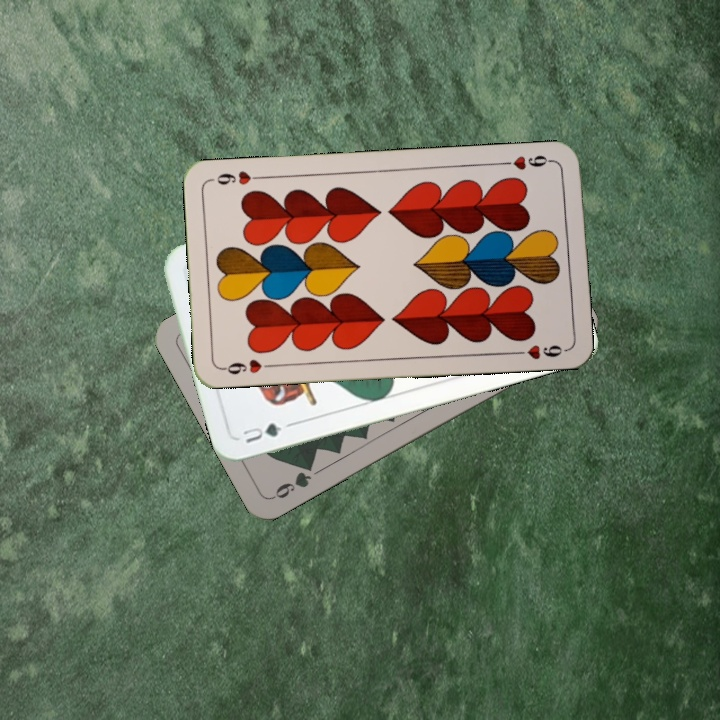G9: (268, 458, 317, 502)
GU: (238, 419, 285, 446)
H9: (218, 355, 277, 377), (497, 151, 556, 173)
